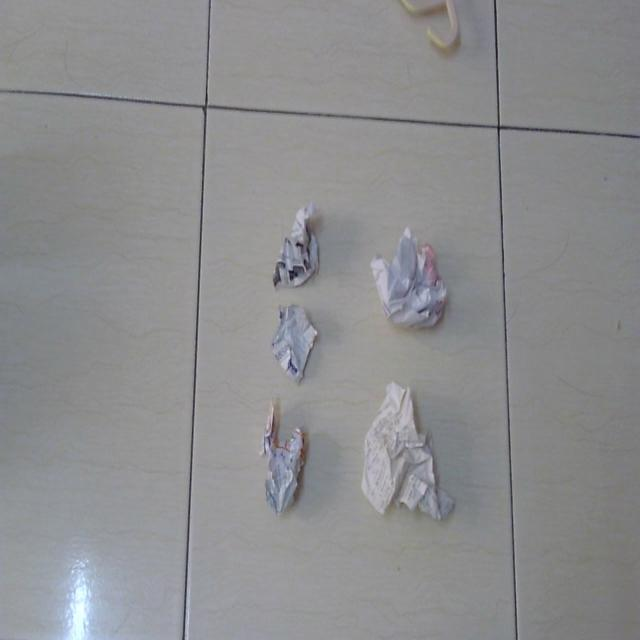paperrotation: (359, 371, 451, 534), (367, 222, 452, 338), (257, 400, 317, 518), (272, 201, 329, 292), (270, 296, 324, 386)
